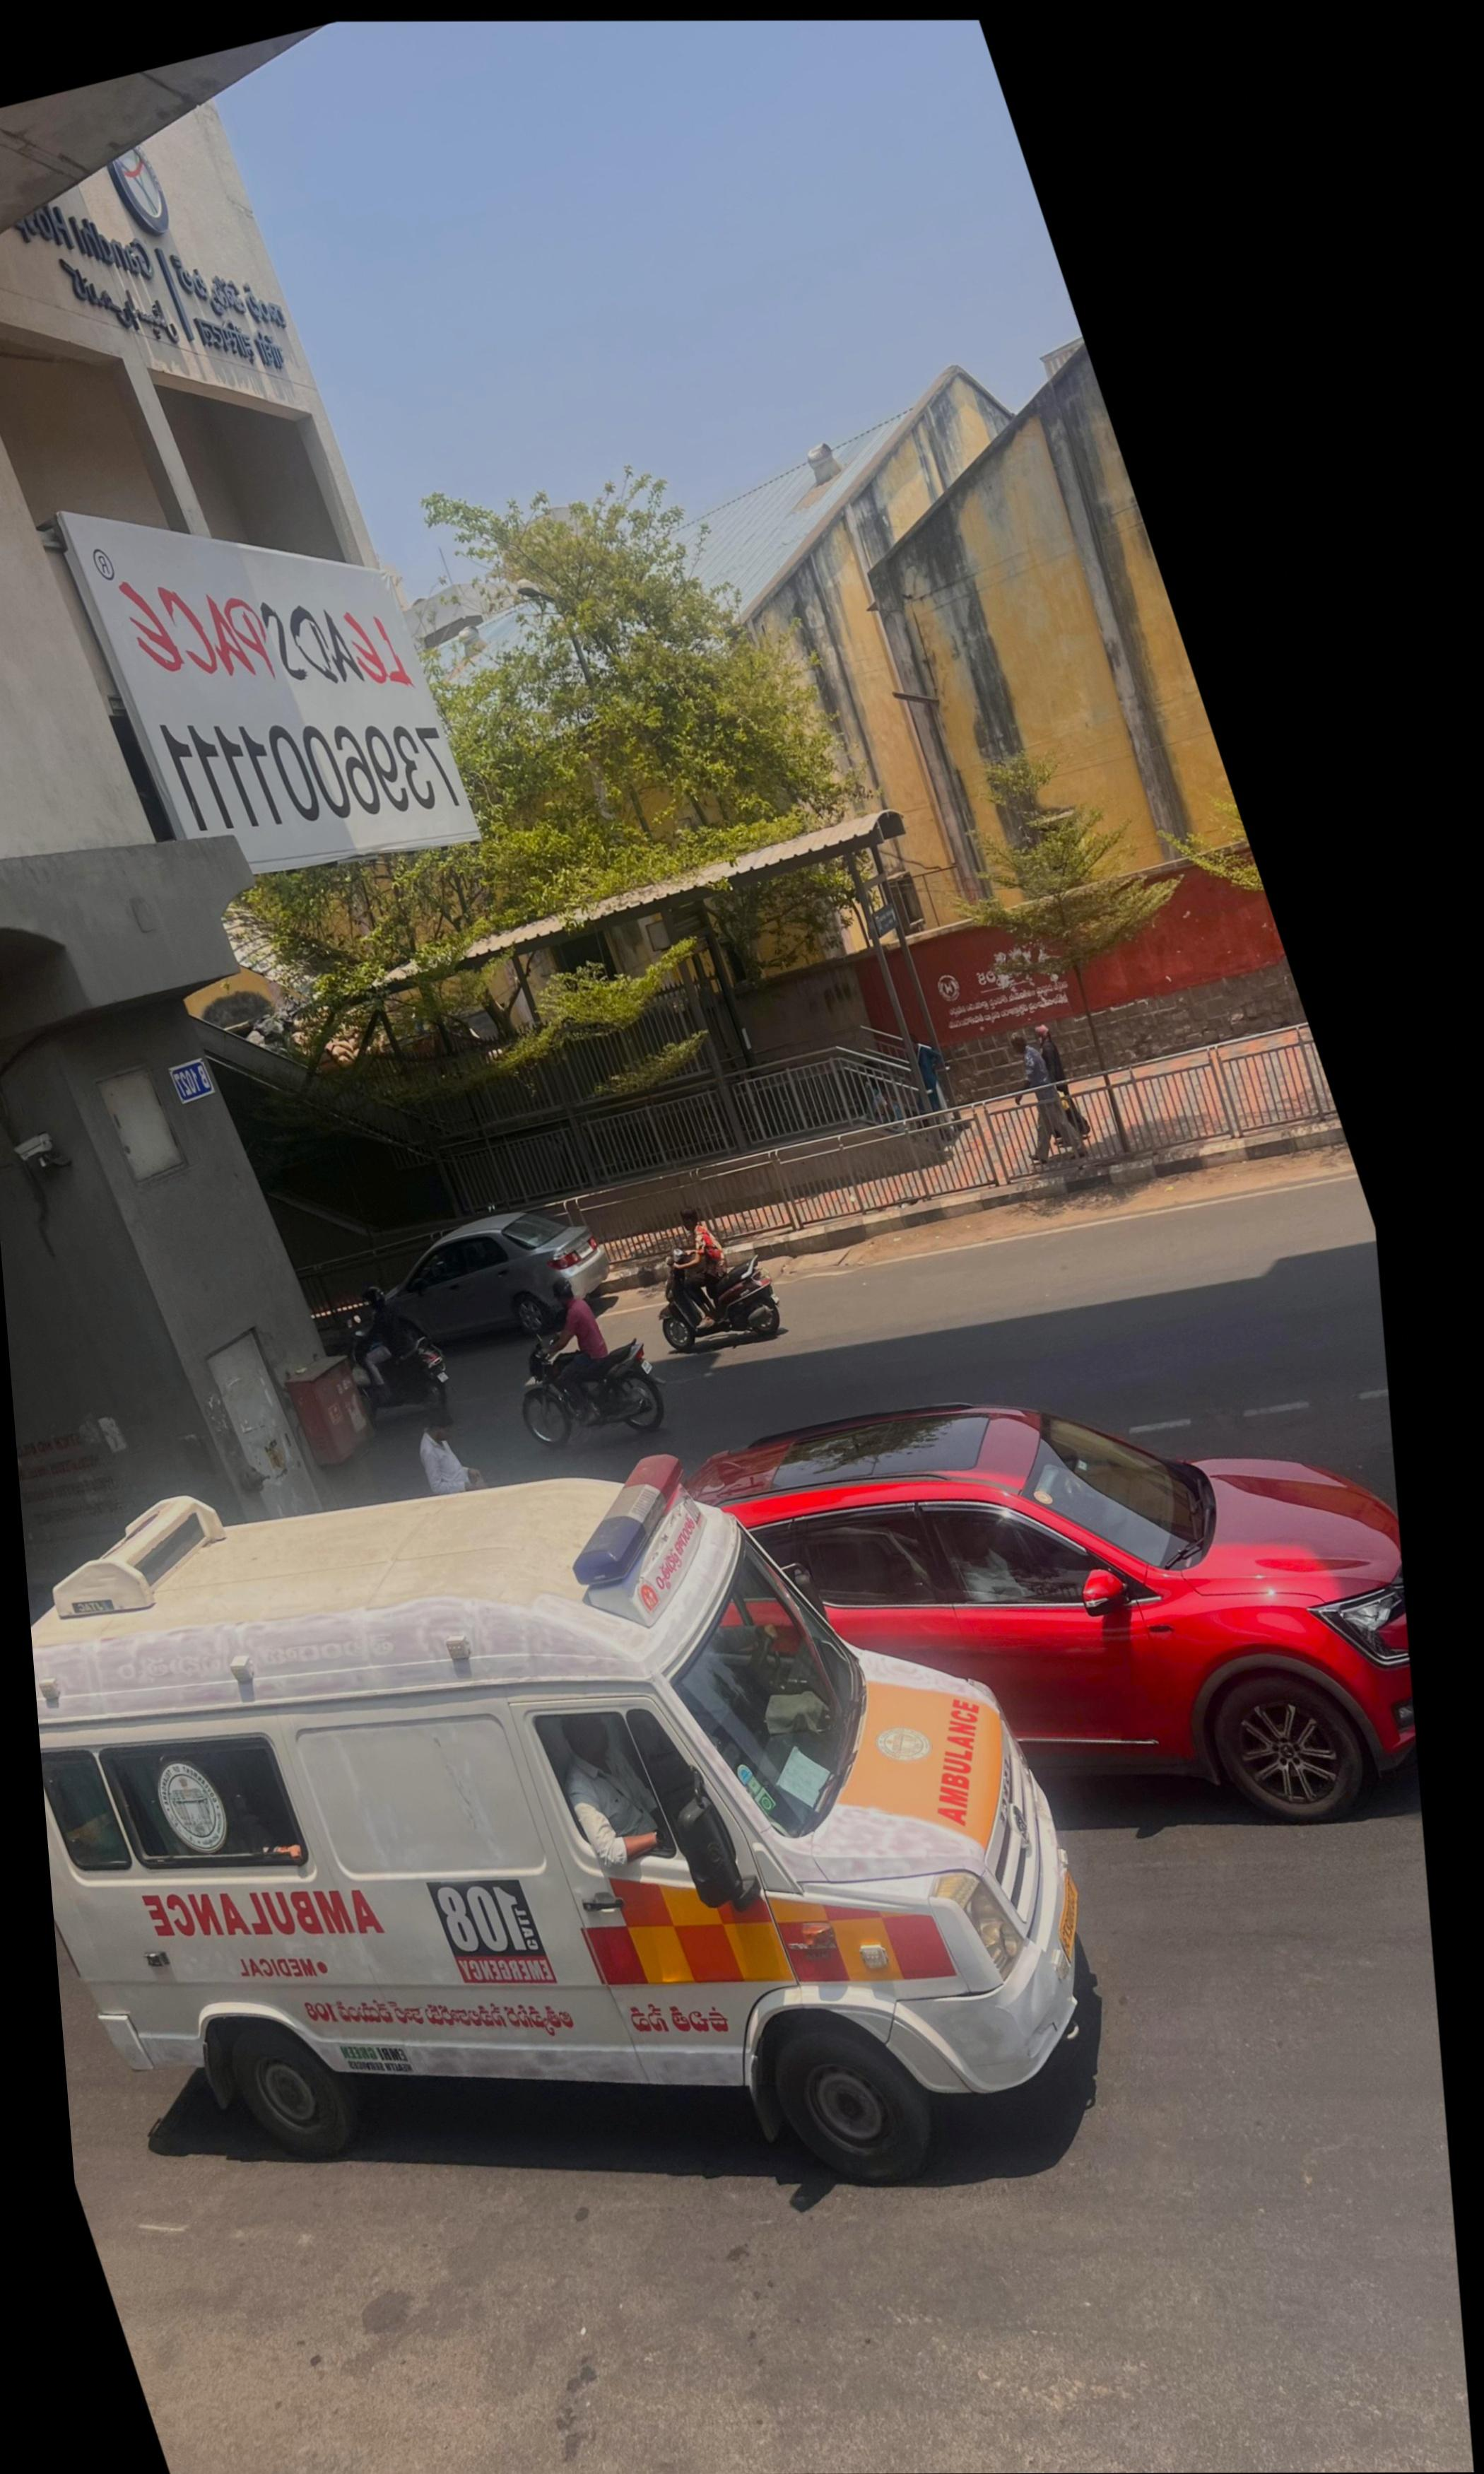ambulance: (34, 1454, 1083, 2195)
